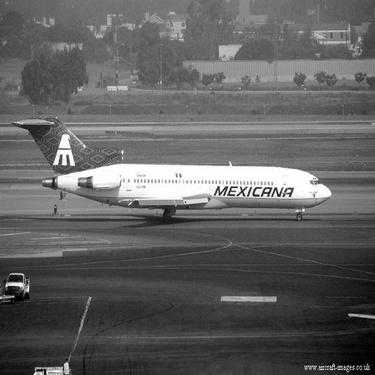airplane: (4, 98, 341, 225)
